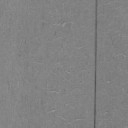surface scratch: (94, 0, 98, 128)
